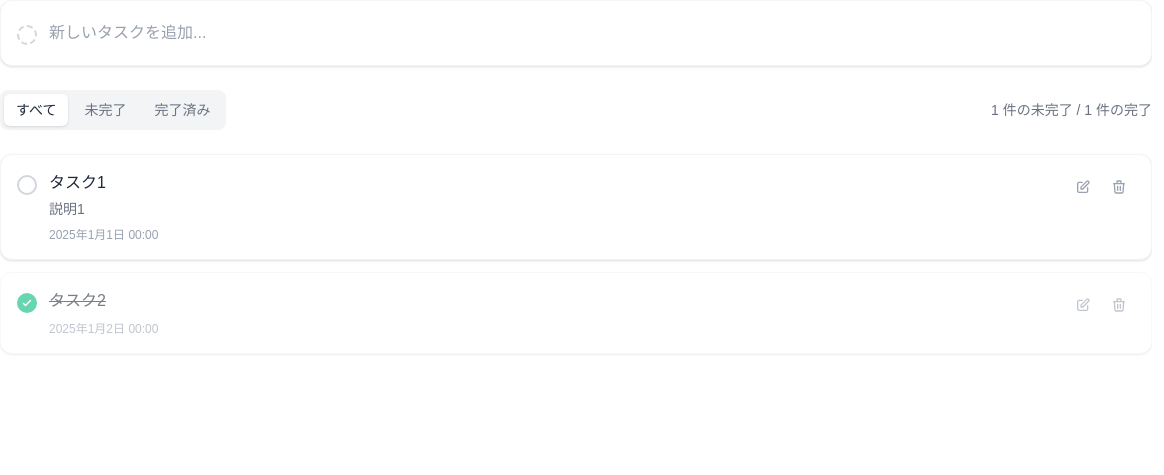
Test: TodoList › TODO作成エラー時にエラーメッセージが表示される
Expected: the heading "タスク1" is shown, [49,174,106,191]
Type "新しいタスク" into the field with placeholder "新しいタスクを追加...".
click(592, 33); type("新しいタスク")  # box [49,17,1135,49]
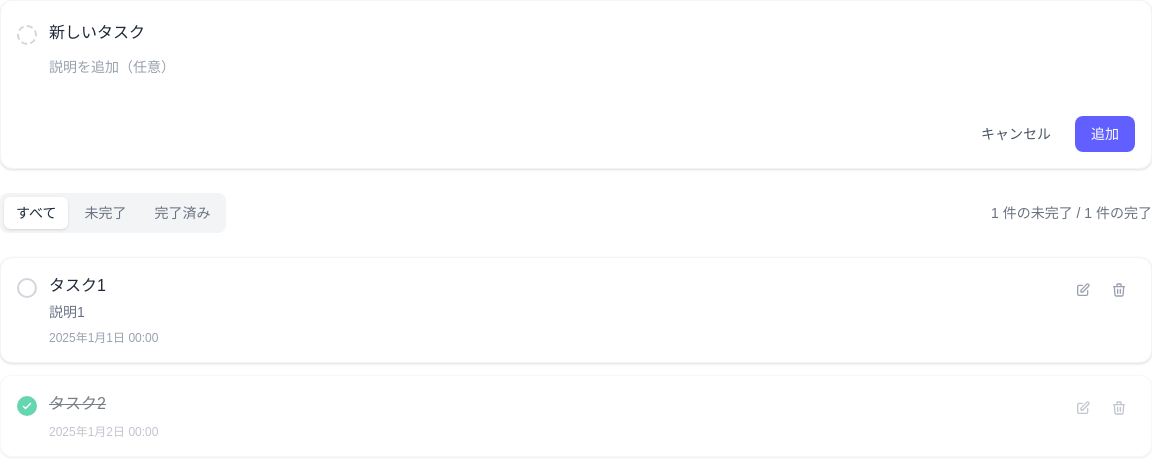
Click the button "追加".
click(1105, 134)  # box [1075,116,1135,152]
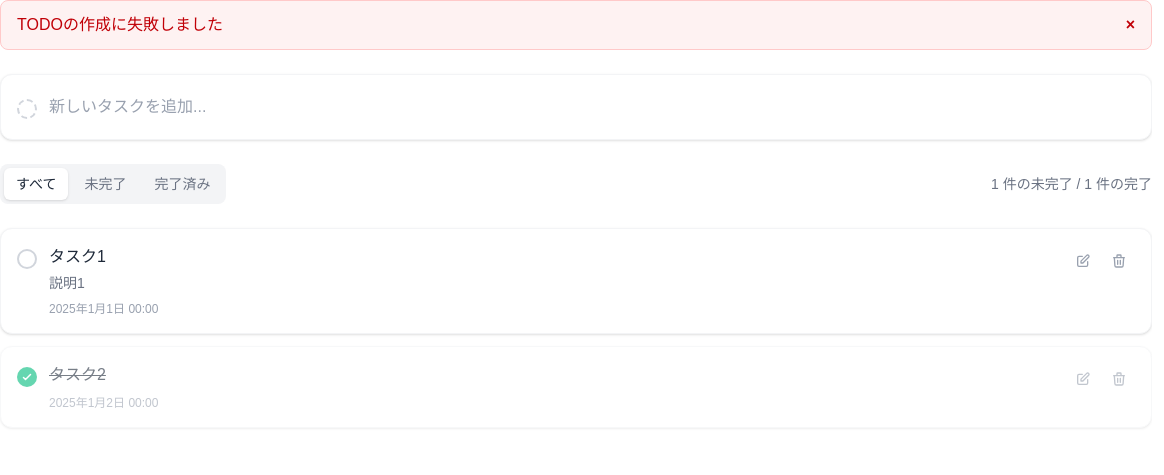
Result: the text "TODOの作成に失敗しました" is shown at [17,16,223,33]
